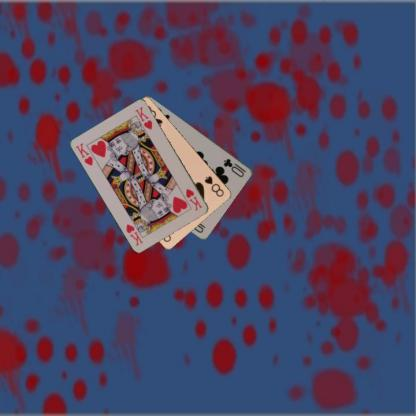10c: (222, 156, 248, 179)
8s: (202, 174, 225, 198)
Kh: (73, 140, 95, 167), (184, 186, 204, 212)
